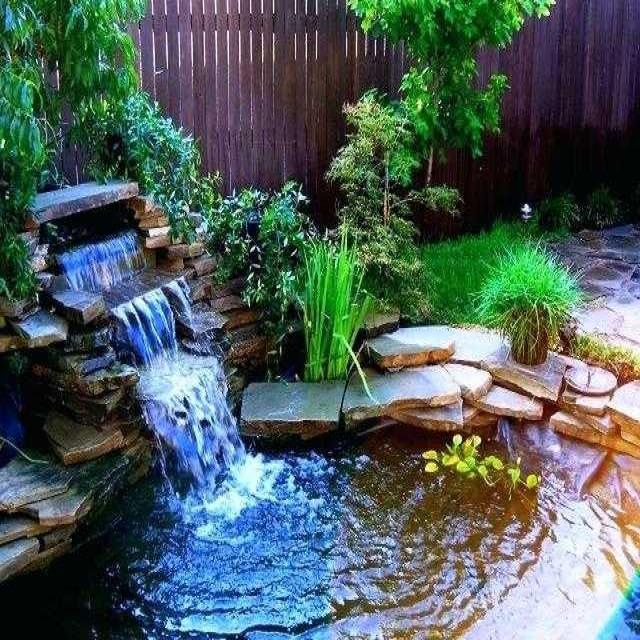Ponds: (1, 181, 640, 640)
